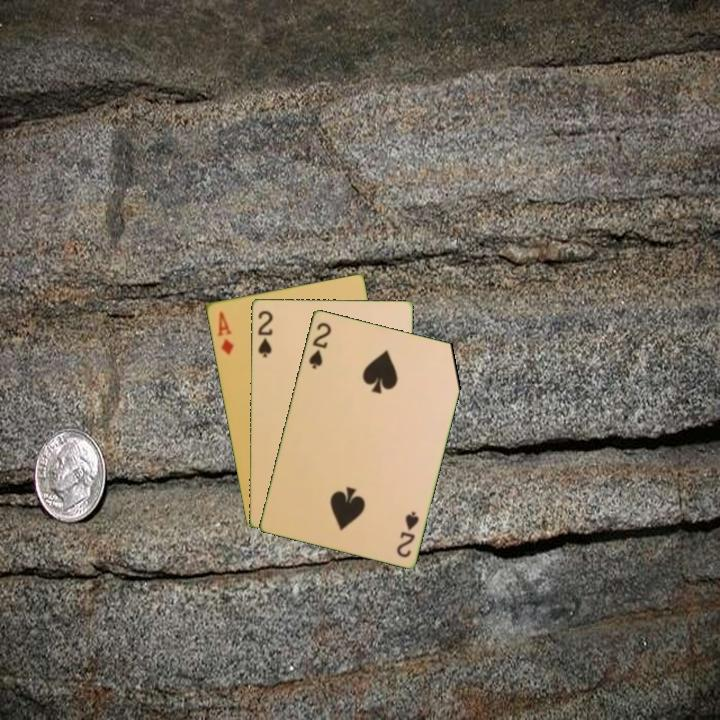2s: (305, 318, 334, 372), (393, 507, 422, 560), (254, 307, 275, 360)
Ad: (214, 308, 236, 358)
